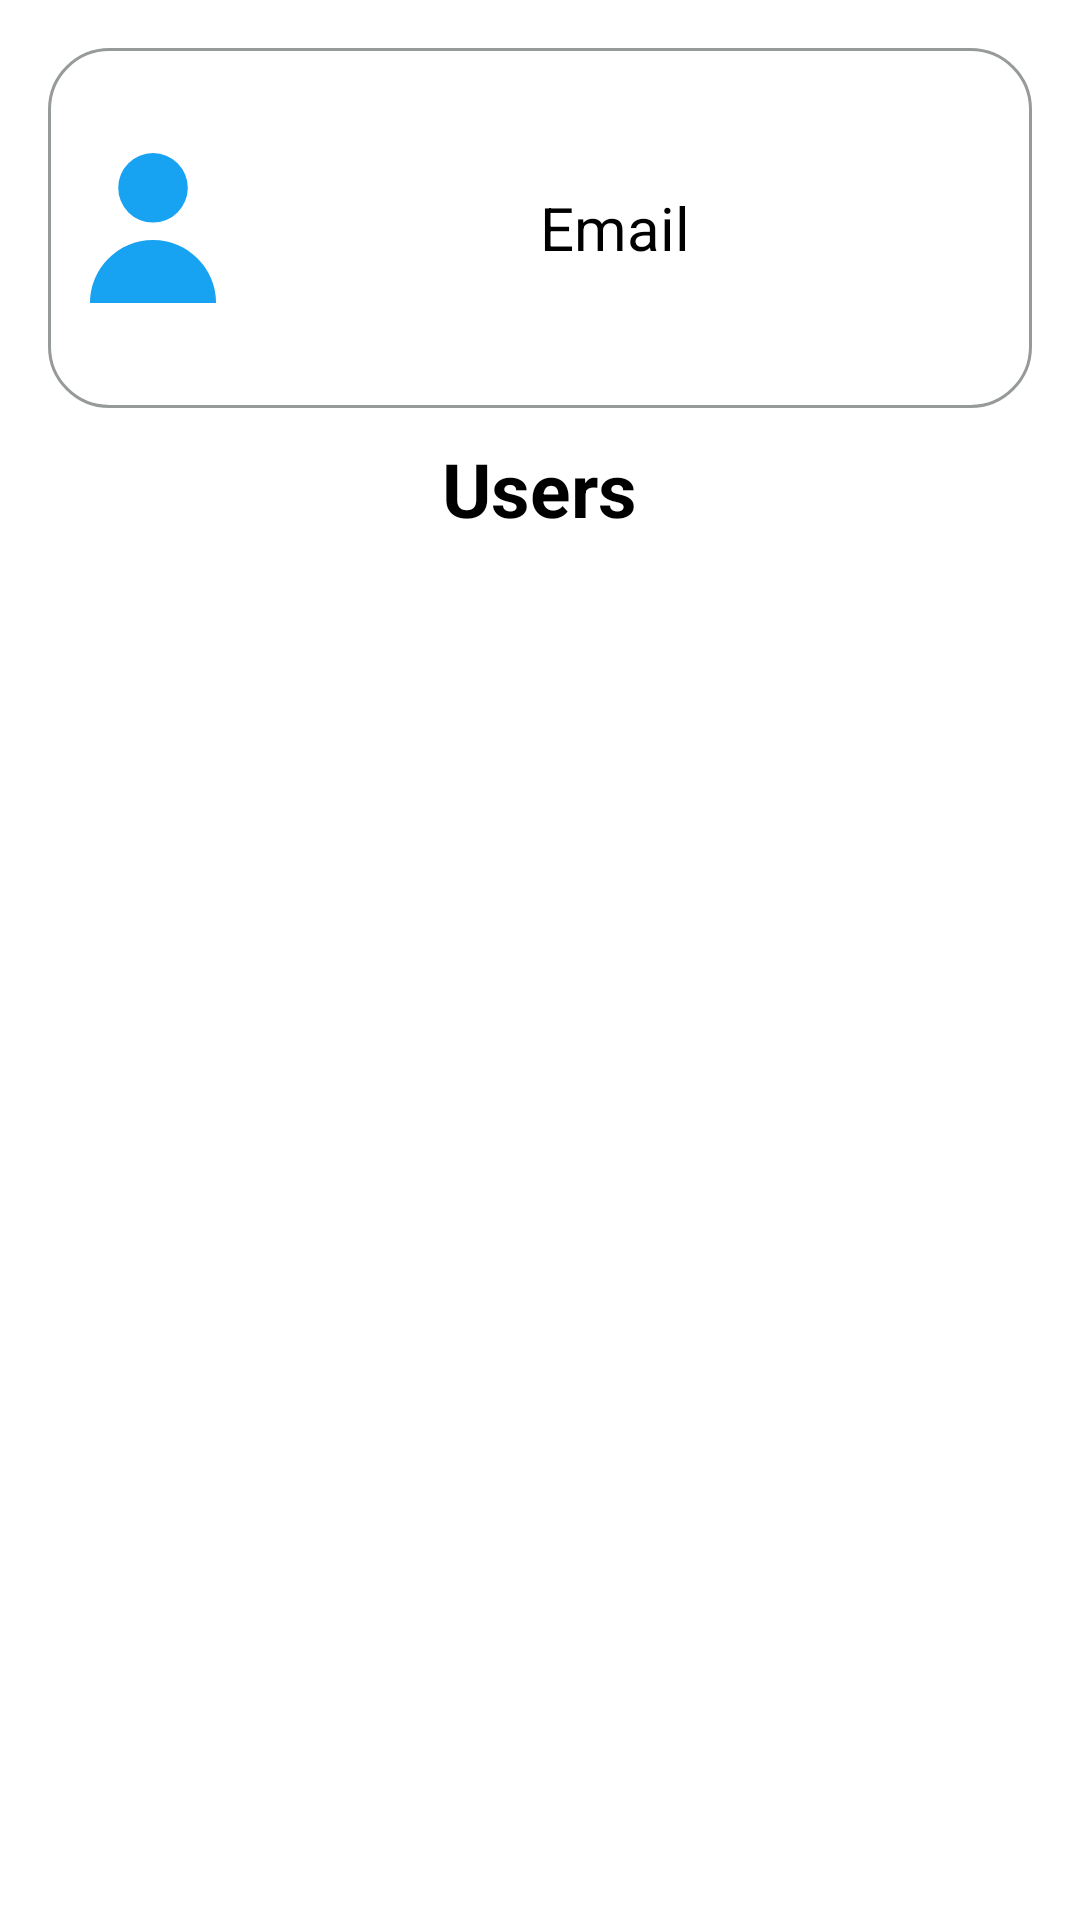

Point at icon controls on the screen. Image size 1080 × 1920, points as [x,y].
user: [153,228]
